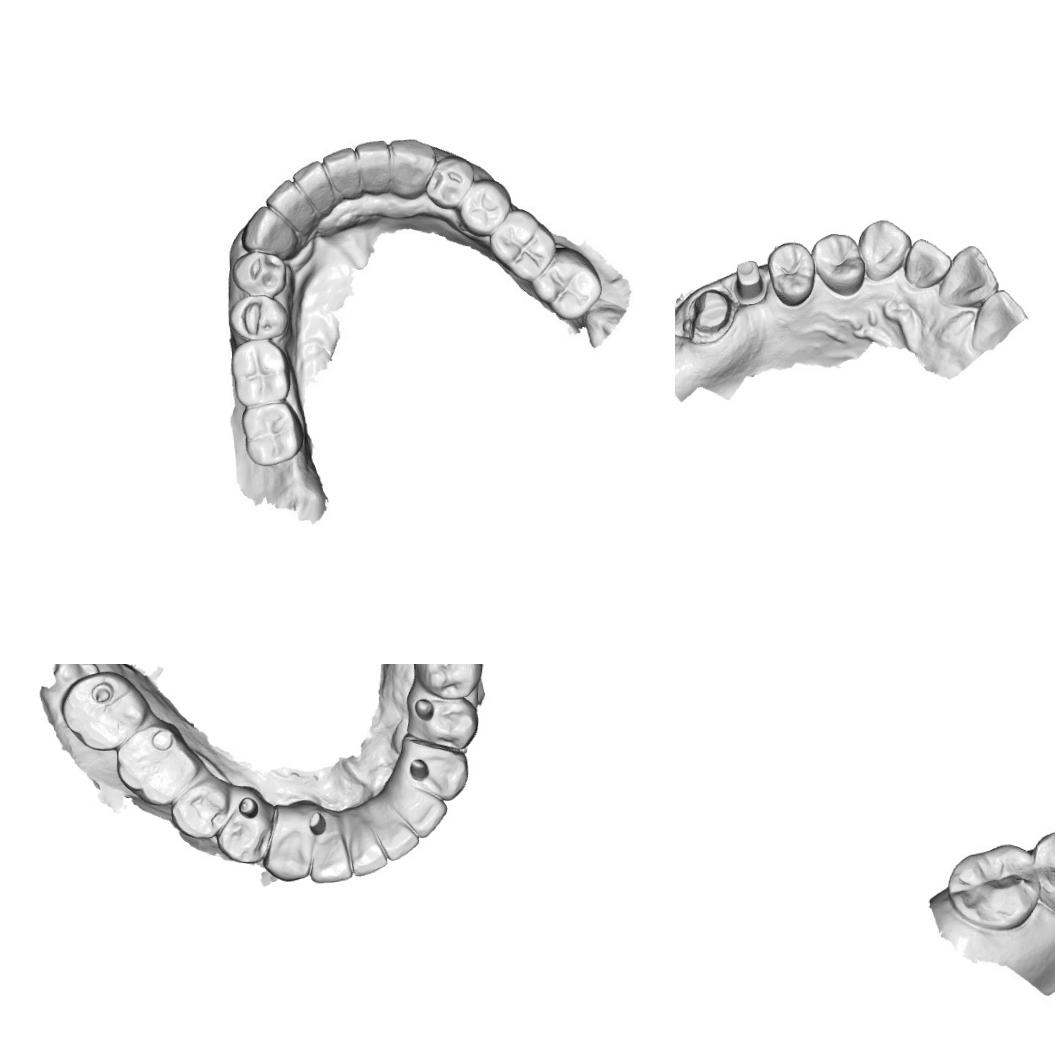abutment: (730, 257, 770, 306)
canine: (392, 732, 470, 804), (258, 805, 311, 884), (854, 217, 914, 283), (238, 202, 299, 258), (386, 136, 435, 200)
crown: (684, 280, 738, 344)
incisor: (936, 243, 1001, 308), (966, 288, 1030, 352), (341, 799, 387, 877), (308, 809, 352, 887), (394, 782, 450, 840), (372, 794, 419, 862), (900, 235, 954, 293), (263, 178, 313, 234), (289, 160, 336, 216), (353, 136, 390, 196), (320, 146, 358, 202)
molar: (946, 842, 1040, 934), (59, 667, 150, 755), (112, 721, 204, 808), (528, 244, 604, 322), (487, 205, 559, 285), (238, 399, 306, 468), (228, 337, 294, 407), (1029, 817, 1055, 921)
premolar: (210, 784, 274, 866), (406, 688, 486, 752), (168, 776, 230, 847), (811, 230, 867, 299), (764, 239, 818, 309), (455, 177, 512, 240), (420, 152, 479, 212), (224, 292, 293, 343), (229, 249, 290, 297), (413, 664, 485, 702)
